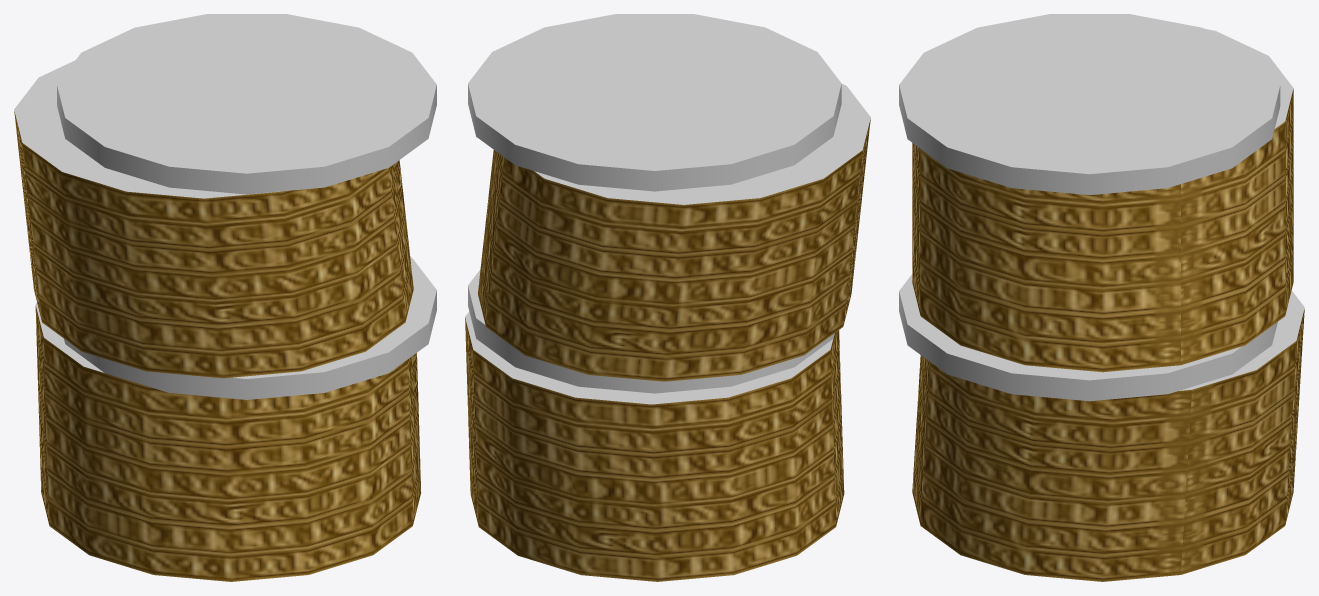
File: CoinStack.fbx
3 renders of one model, left to right at view 1: azimuth 30°, elevation 25°; view 2: azimuth 150°, elevation 25°; view 3: azimuth 270°, elevation 25°, orthographic. The views are drawn at different scales.
Parts seen in each view (by area): view 1: Default_Layer; view 2: Default_Layer; view 3: Default_Layer.
Part boxes in pixels (x1=…): Default_Layer: x1=14, y1=14, x2=436, y2=581; Default_Layer: x1=465, y1=14, x2=870, y2=581; Default_Layer: x1=899, y1=14, x2=1304, y2=581.
Bounding box in the file's own units: 160 × 173 × 154.
